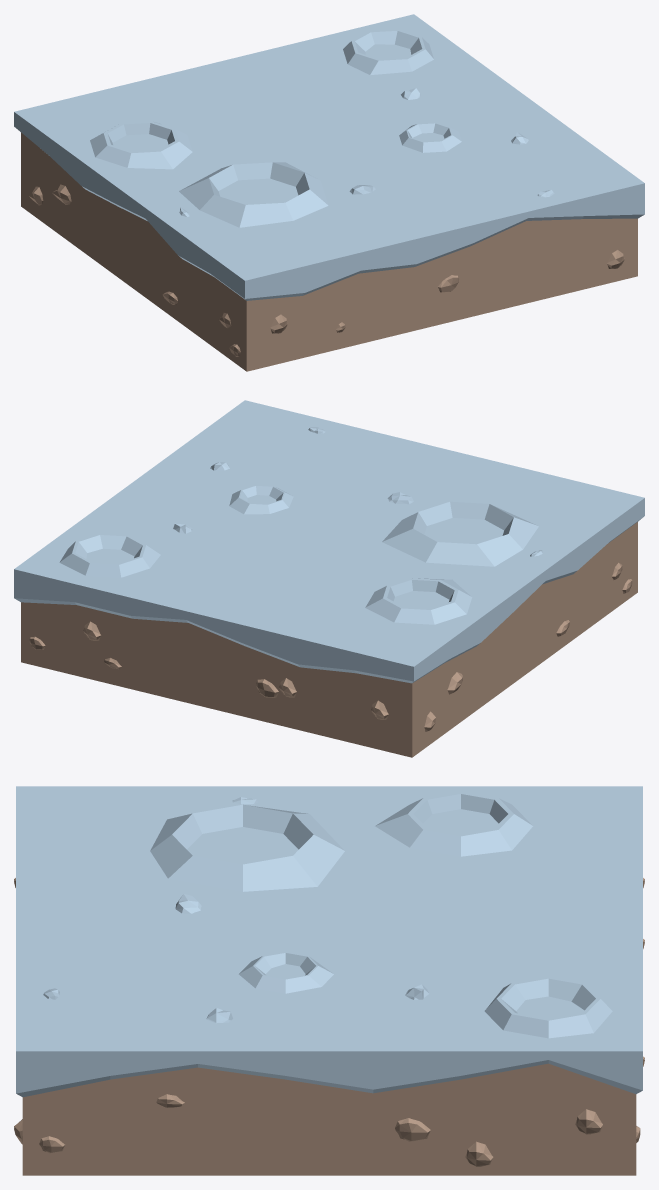
File: Isl_19_Base.fbx
3 views of the same model, one above another, from view 1: azimuth 30°, elevation 25°; view 2: azimuth 150°, elevation 25°; view 3: azimuth 270°, elevation 25° (orthographic). The views are drawn at different scales.
Visible parts, largest first — view 1: Isl_19_Base; view 2: Isl_19_Base; view 3: Isl_19_Base.
Part boxes in pixels (x1,y1,x2,y2): Isl_19_Base: (14,14,644,371); Isl_19_Base: (14,400,644,757); Isl_19_Base: (14,786,644,1175).
Bounding box in the file's own units: 2058 × 2057 × 518.
Materials: 1 (1 with a texture image).
